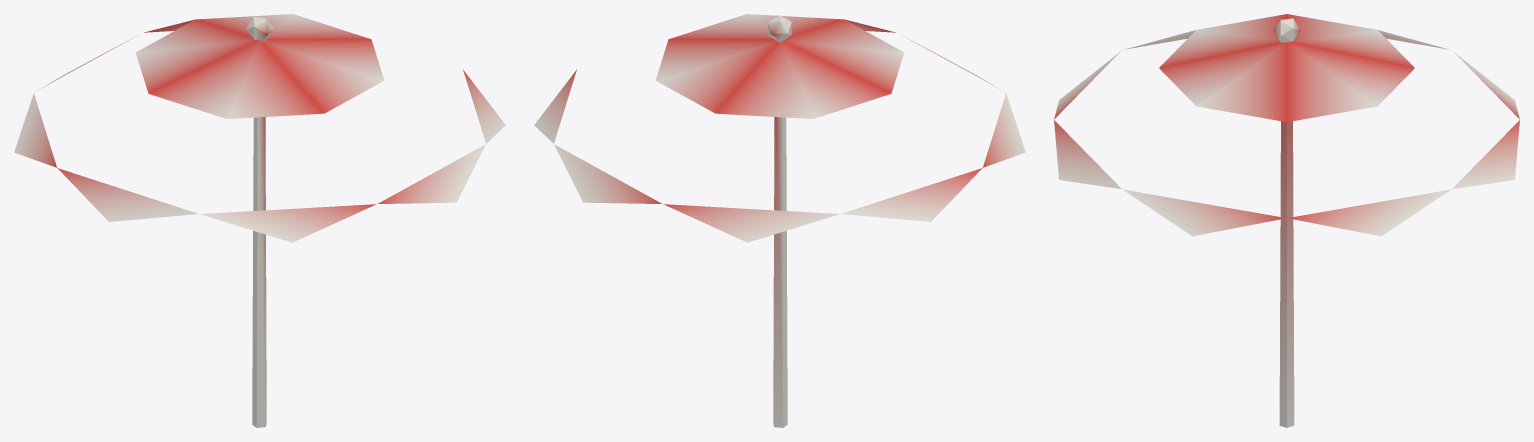
The model's file is umbrella_0.glb.
The picture shows the model from 3 angles, left to right: view 1: azimuth 30°, elevation 25°; view 2: azimuth 150°, elevation 25°; view 3: azimuth 270°, elevation 25°; orthographic projection.
Parts seen in each view (by area): view 1: Umbrella; view 2: Umbrella; view 3: Umbrella.
Part boxes in pixels (x1=…): Umbrella: x1=14, y1=14, x2=505, y2=427; Umbrella: x1=534, y1=14, x2=1025, y2=427; Umbrella: x1=1054, y1=14, x2=1519, y2=427.
Size of the model in its own units: 2.7 by 2.59 by 2.7.
